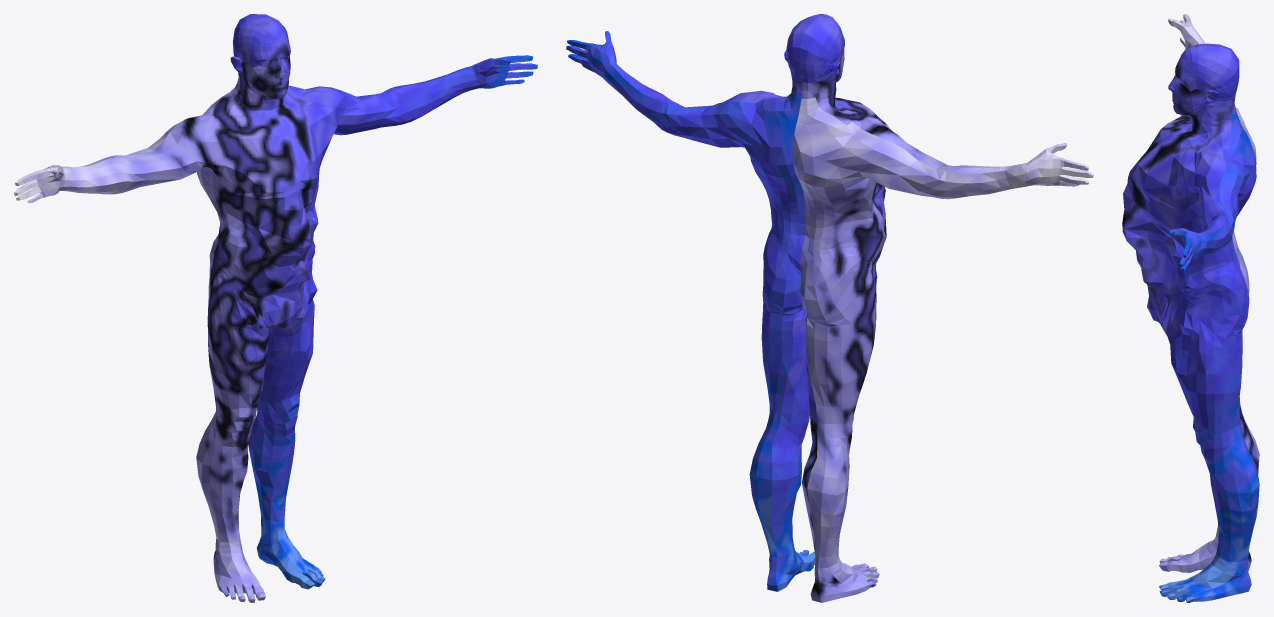
File: v cunt.OBJ
3 renders of one model, left to right at view 1: azimuth 30°, elevation 25°; view 2: azimuth 150°, elevation 25°; view 3: azimuth 270°, elevation 25°, orthographic. The views are drawn at different scales.
Visible parts, largest first — view 1: ZBrushPolyMesh3D; view 2: ZBrushPolyMesh3D; view 3: ZBrushPolyMesh3D.
Boxes of the visible parts, x1,y1,x2,y2 form: ZBrushPolyMesh3D: (14, 14, 537, 602); ZBrushPolyMesh3D: (566, 14, 1093, 602); ZBrushPolyMesh3D: (1122, 14, 1259, 602).
Bounding box in the file's own units: 1.96 × 2 × 0.4643.
Materials: 1 (1 with a texture image).
